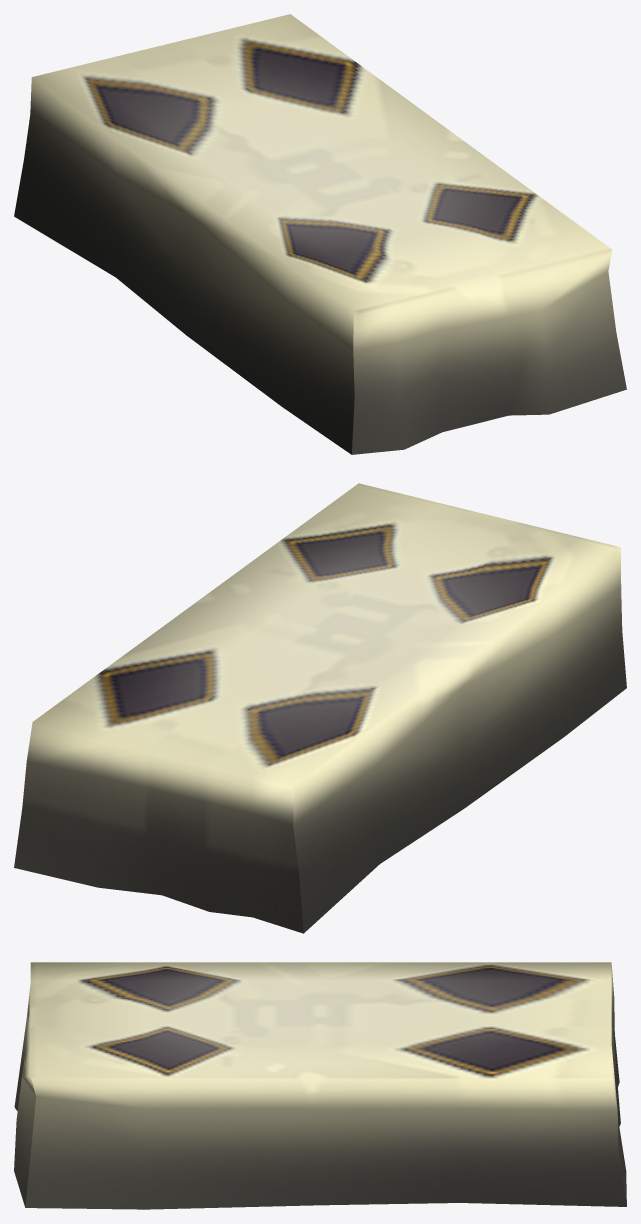
Rendered from Tx_props_dinningtable_7.fbx.
3 renders of one model, top to bottom at view 1: azimuth 30°, elevation 25°; view 2: azimuth 150°, elevation 25°; view 3: azimuth 270°, elevation 25°, orthographic. The views are drawn at different scales.
Visible parts, largest first — view 1: Tx_prop_dinningtable_6; view 2: Tx_prop_dinningtable_6; view 3: Tx_prop_dinningtable_6.
Part boxes in pixels (x1,y1,x2,y2): Tx_prop_dinningtable_6: [14, 14, 626, 454]; Tx_prop_dinningtable_6: [14, 483, 626, 933]; Tx_prop_dinningtable_6: [14, 962, 626, 1209].
Size of the model in its own units: 6.21 by 2.9 by 12.73.
